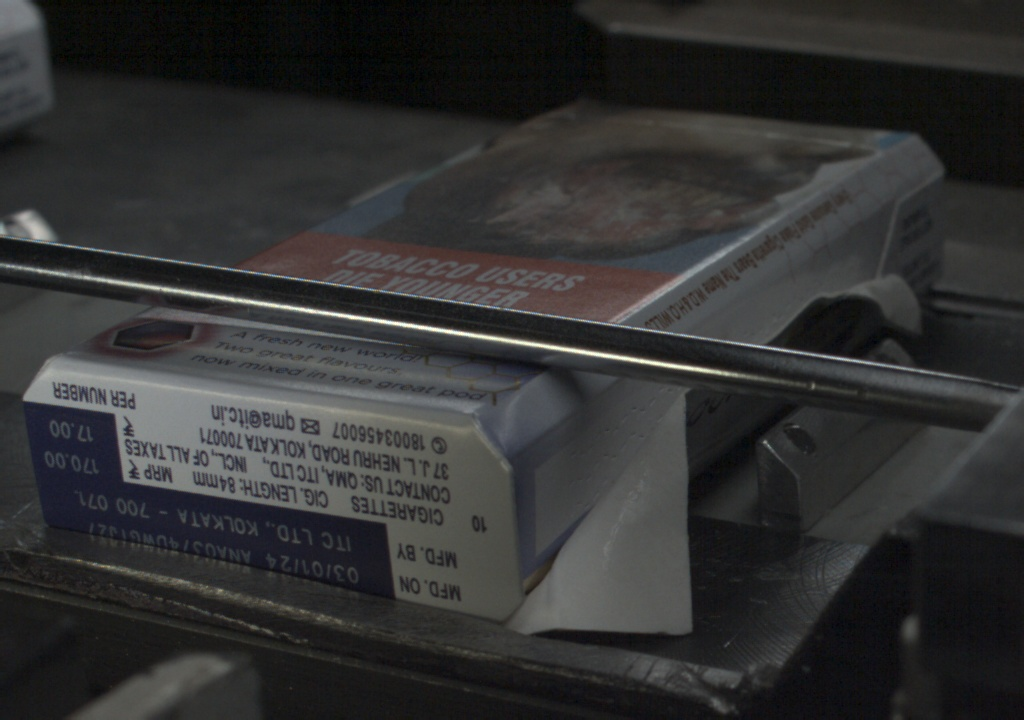g_bottom: (20, 362, 499, 632)
g_label: (36, 484, 402, 598)
g_miter: (888, 173, 938, 209)
ng_lmiter: (520, 387, 683, 631), (817, 266, 927, 344)
price: (20, 409, 119, 482)
